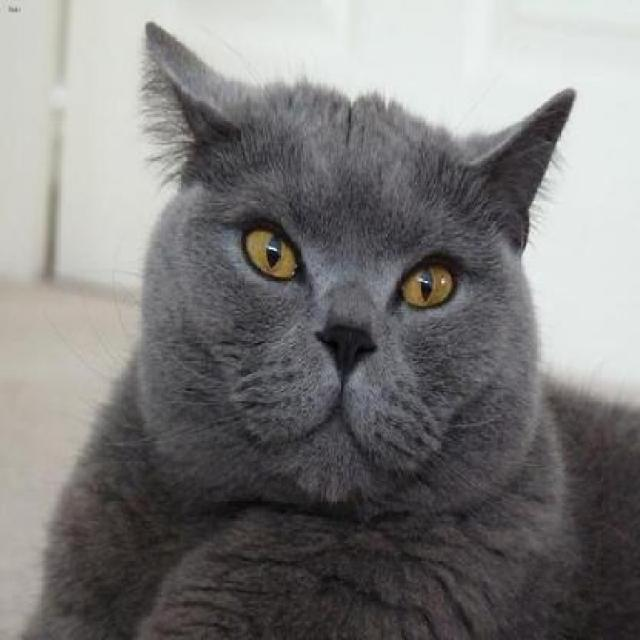cat: (29, 21, 638, 638)
